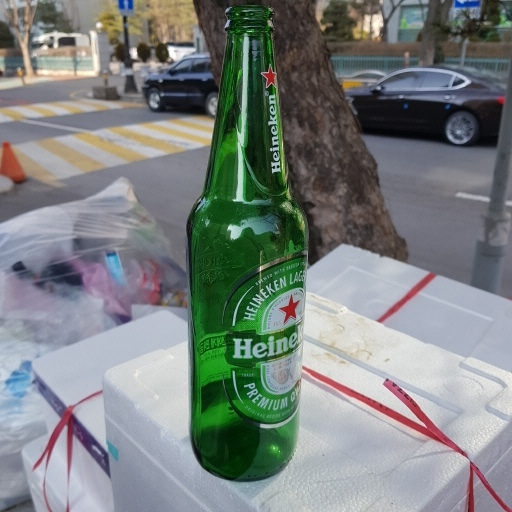Glass_1: (181, 3, 308, 484)
